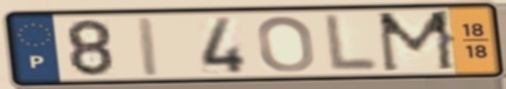4: (197, 15, 249, 76)
8: (63, 18, 117, 78)
I: (134, 15, 164, 79)
L: (323, 11, 382, 74)
M: (374, 8, 460, 75)
O: (254, 14, 318, 74)
